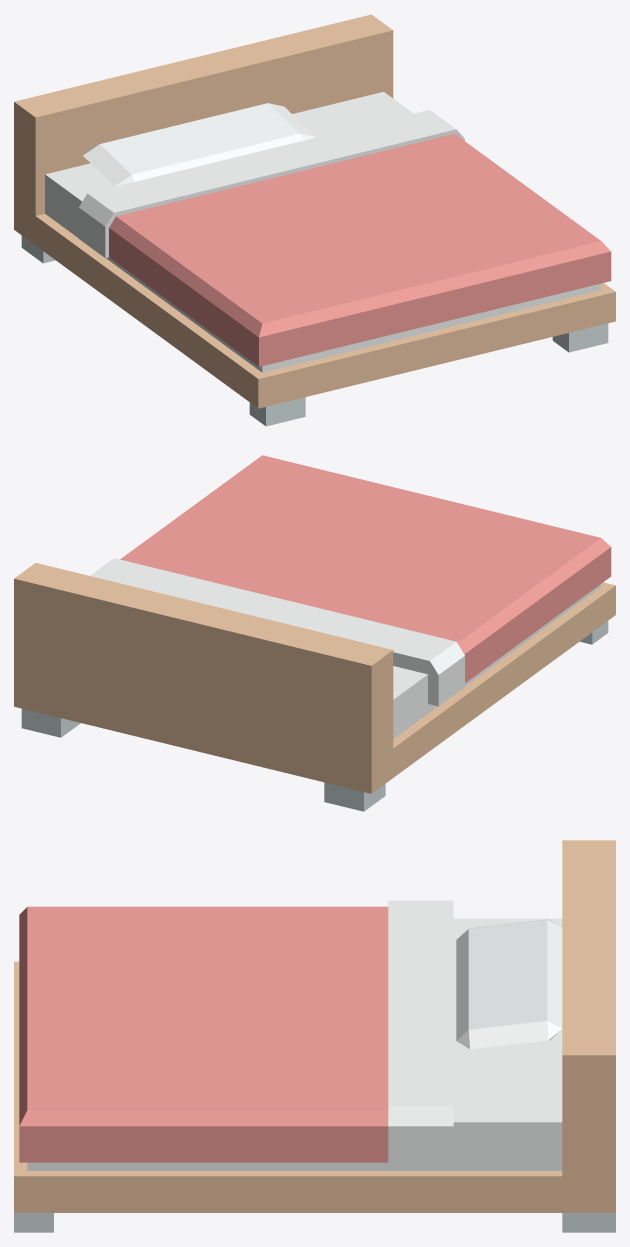
File: bedDouble.glb
3 renders of one model, top to bottom at view 1: azimuth 30°, elevation 25°; view 2: azimuth 150°, elevation 25°; view 3: azimuth 270°, elevation 25°, orthographic. The views are drawn at different scales.
Visible parts, largest first — view 1: cover, bedDouble(Clone), pillowLeft, pillowRight; view 2: bedDouble(Clone), cover; view 3: cover, bedDouble(Clone), pillowRight, pillowLeft.
Boxes of the visible parts, left/top/right/bottom form: cover: left=78, top=110, right=611, bottom=366; bedDouble(Clone): left=14, top=14, right=615, bottom=426; pillowLeft: left=83, top=121, right=229, bottom=186; pillowRight: left=174, top=103, right=315, bottom=158; bedDouble(Clone): left=14, top=563, right=615, bottom=811; cover: left=90, top=455, right=611, bottom=706; cover: left=19, top=900, right=453, bottom=1164; bedDouble(Clone): left=14, top=840, right=615, bottom=1232; pillowRight: left=456, top=964, right=562, bottom=1049; pillowLeft: left=456, top=919, right=562, bottom=996.
Bounding box in the file's own units: 1.91 × 0.75 × 2.25.
